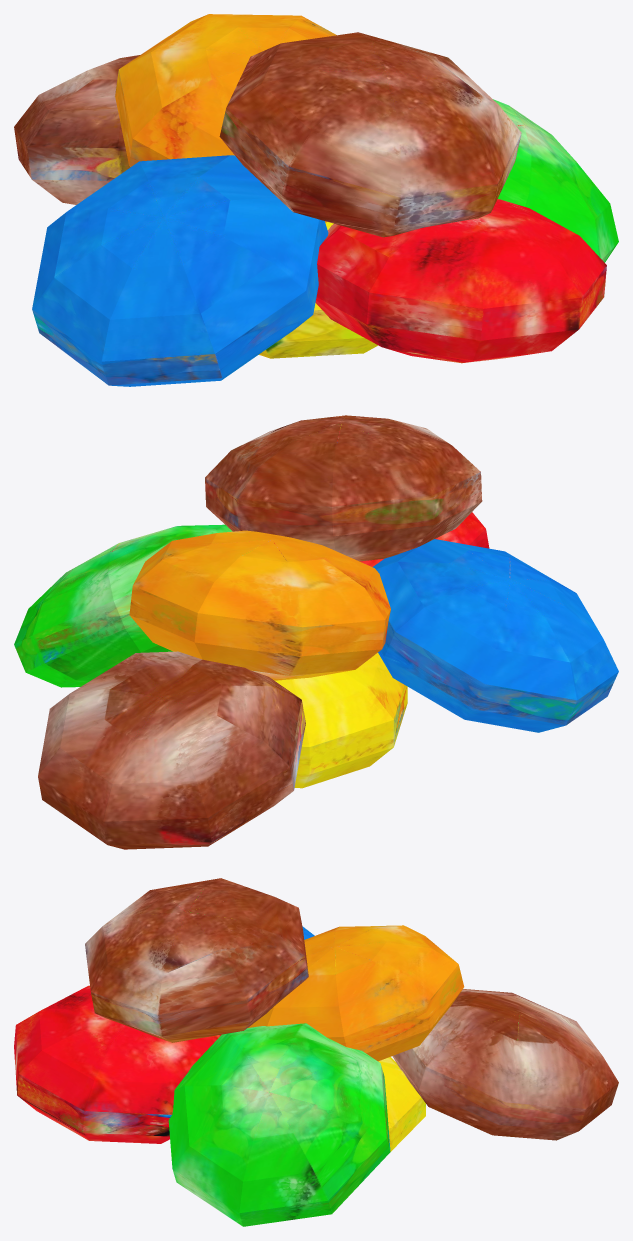
File: chocolate-candy.glb
3 views of the same model, one above another, from view 1: azimuth 30°, elevation 25°; view 2: azimuth 150°, elevation 25°; view 3: azimuth 270°, elevation 25° (orthographic). The views are drawn at different scales.
Parts seen in each view (by area): view 1: Sphere.006, Sphere.004, Sphere.003, Sphere.002, Sphere.001, Sphere.005, Sphere; view 2: Sphere.001, Sphere.006, Sphere.002, Sphere.004, Sphere.005, Sphere, Sphere.003; view 3: Sphere.005, Sphere.004, Sphere.001, Sphere.003, Sphere.002, Sphere.
Part boxes in pixels (x1=…): Sphere.006: x1=32, y1=155, x2=328, y2=386; Sphere.004: x1=219, y1=32, x2=521, y2=237; Sphere.003: x1=315, y1=199, x2=606, y2=363; Sphere.002: x1=115, y1=14, x2=336, y2=222; Sphere.001: x1=14, y1=55, x2=139, y2=204; Sphere.005: x1=493, y1=99, x2=618, y2=262; Sphere: x1=259, y1=222, x2=377, y2=358; Sphere.001: x1=38, y1=651, x2=305, y2=849; Sphere.006: x1=372, y1=539, x2=618, y2=732; Sphere.002: x1=129, y1=530, x2=390, y2=680; Sphere.004: x1=205, y1=415, x2=482, y2=561; Sphere.005: x1=14, y1=524, x2=232, y2=687; Sphere: x1=275, y1=653, x2=407, y2=788; Sphere.003: x1=360, y1=512, x2=489, y2=566; Sphere.005: x1=168, y1=1023, x2=390, y2=1226; Sphere.004: x1=85, y1=878, x2=308, y2=1042; Sphere.001: x1=392, y1=989, x2=618, y2=1140; Sphere.003: x1=14, y1=985, x2=221, y2=1143; Sphere.002: x1=248, y1=925, x2=464, y2=1061; Sphere: x1=378, y1=1057, x2=425, y2=1151.
Size of the model in its own units: 2.75 by 1.49 by 3.26.
Materials: 7 (7 with a texture image).
